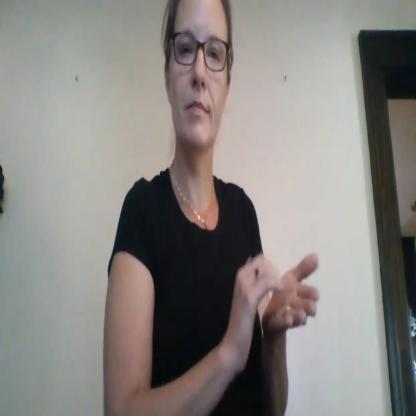ExcuseMe: (217, 214, 331, 390)
